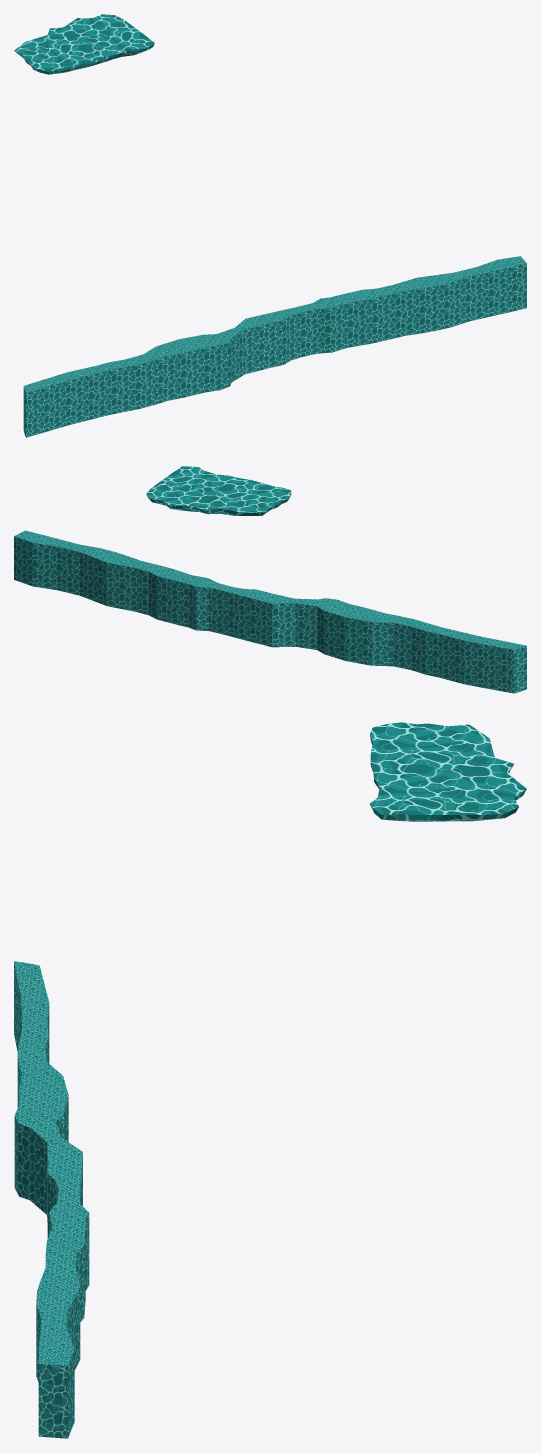
Rendered from LagunaSubterranea.obj.
The picture shows the model from 3 angles, top to bottom: view 1: azimuth 30°, elevation 25°; view 2: azimuth 150°, elevation 25°; view 3: azimuth 270°, elevation 25°; orthographic projection. The views are drawn at different scales.
Parts seen in each view (by area): view 1: Cube.006_Cube.007_Cube.006_Cube.006, Cube.006_Cube.002_Cube.006_Cube.219; view 2: Cube.006_Cube.007_Cube.006_Cube.006, Cube.006_Cube.002_Cube.006_Cube.219; view 3: Cube.006_Cube.007_Cube.006_Cube.006, Cube.006_Cube.002_Cube.006_Cube.219.
Part boxes in pixels (bbox=[...]): Cube.006_Cube.007_Cube.006_Cube.006: bbox=[23, 256, 526, 437]; Cube.006_Cube.002_Cube.006_Cube.219: bbox=[14, 14, 154, 74]; Cube.006_Cube.007_Cube.006_Cube.006: bbox=[14, 530, 526, 693]; Cube.006_Cube.002_Cube.006_Cube.219: bbox=[146, 466, 291, 515]; Cube.006_Cube.007_Cube.006_Cube.006: bbox=[14, 961, 89, 1438]; Cube.006_Cube.002_Cube.006_Cube.219: bbox=[369, 722, 526, 821].
Size of the model in its own units: 639 by 302 by 342.
